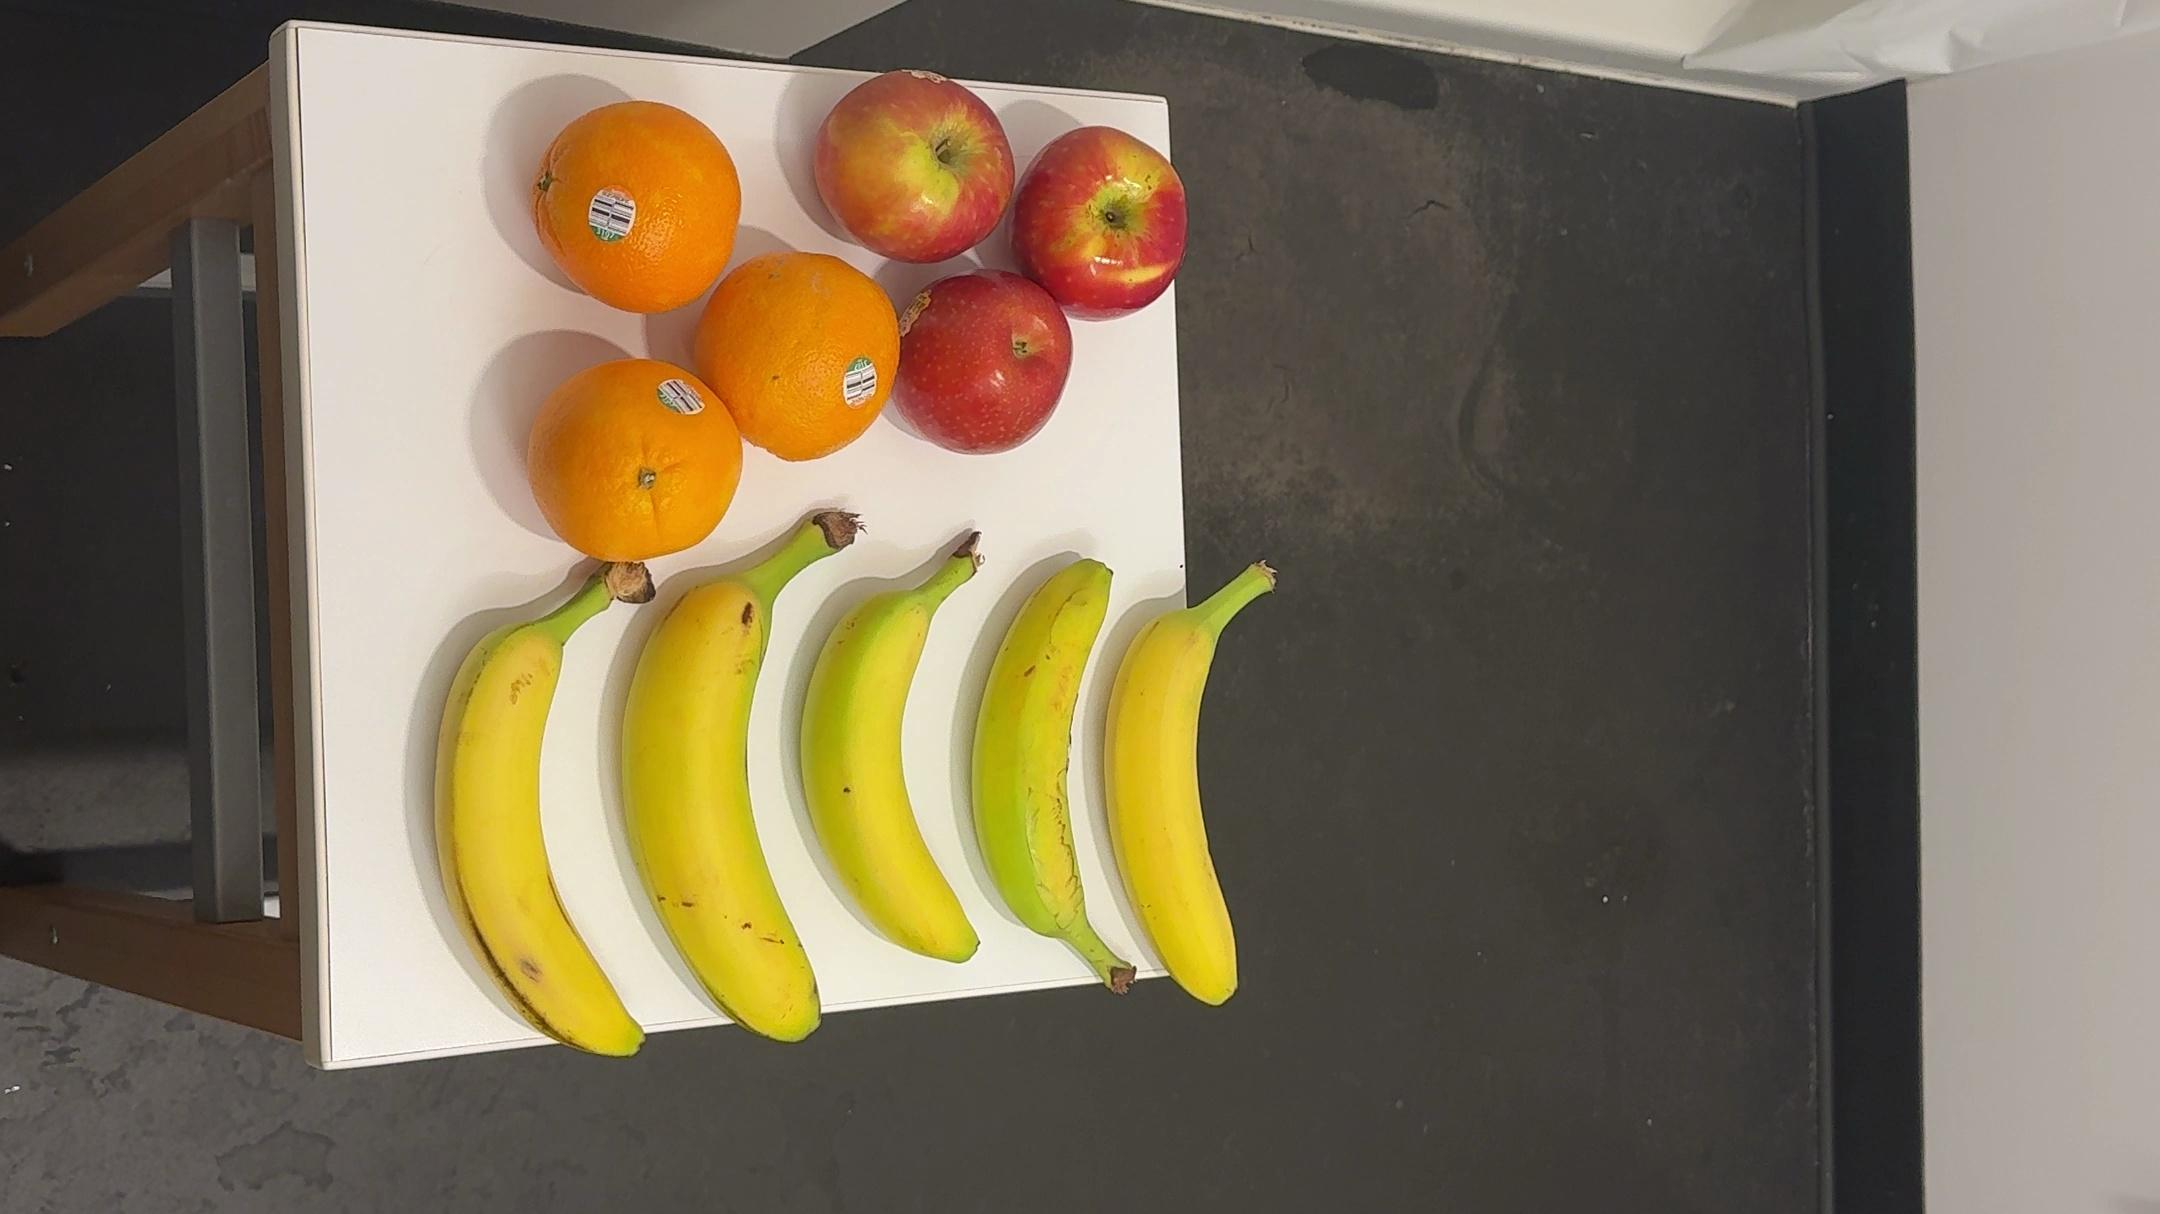apple: (1007, 111, 1202, 325), (814, 56, 1000, 267), (898, 267, 1081, 463)
banana: (629, 505, 859, 1063), (423, 554, 668, 1072), (791, 503, 992, 987), (1101, 534, 1289, 1023), (963, 534, 1147, 1005)
orange: (515, 88, 734, 324), (530, 347, 745, 565), (699, 255, 909, 473)
